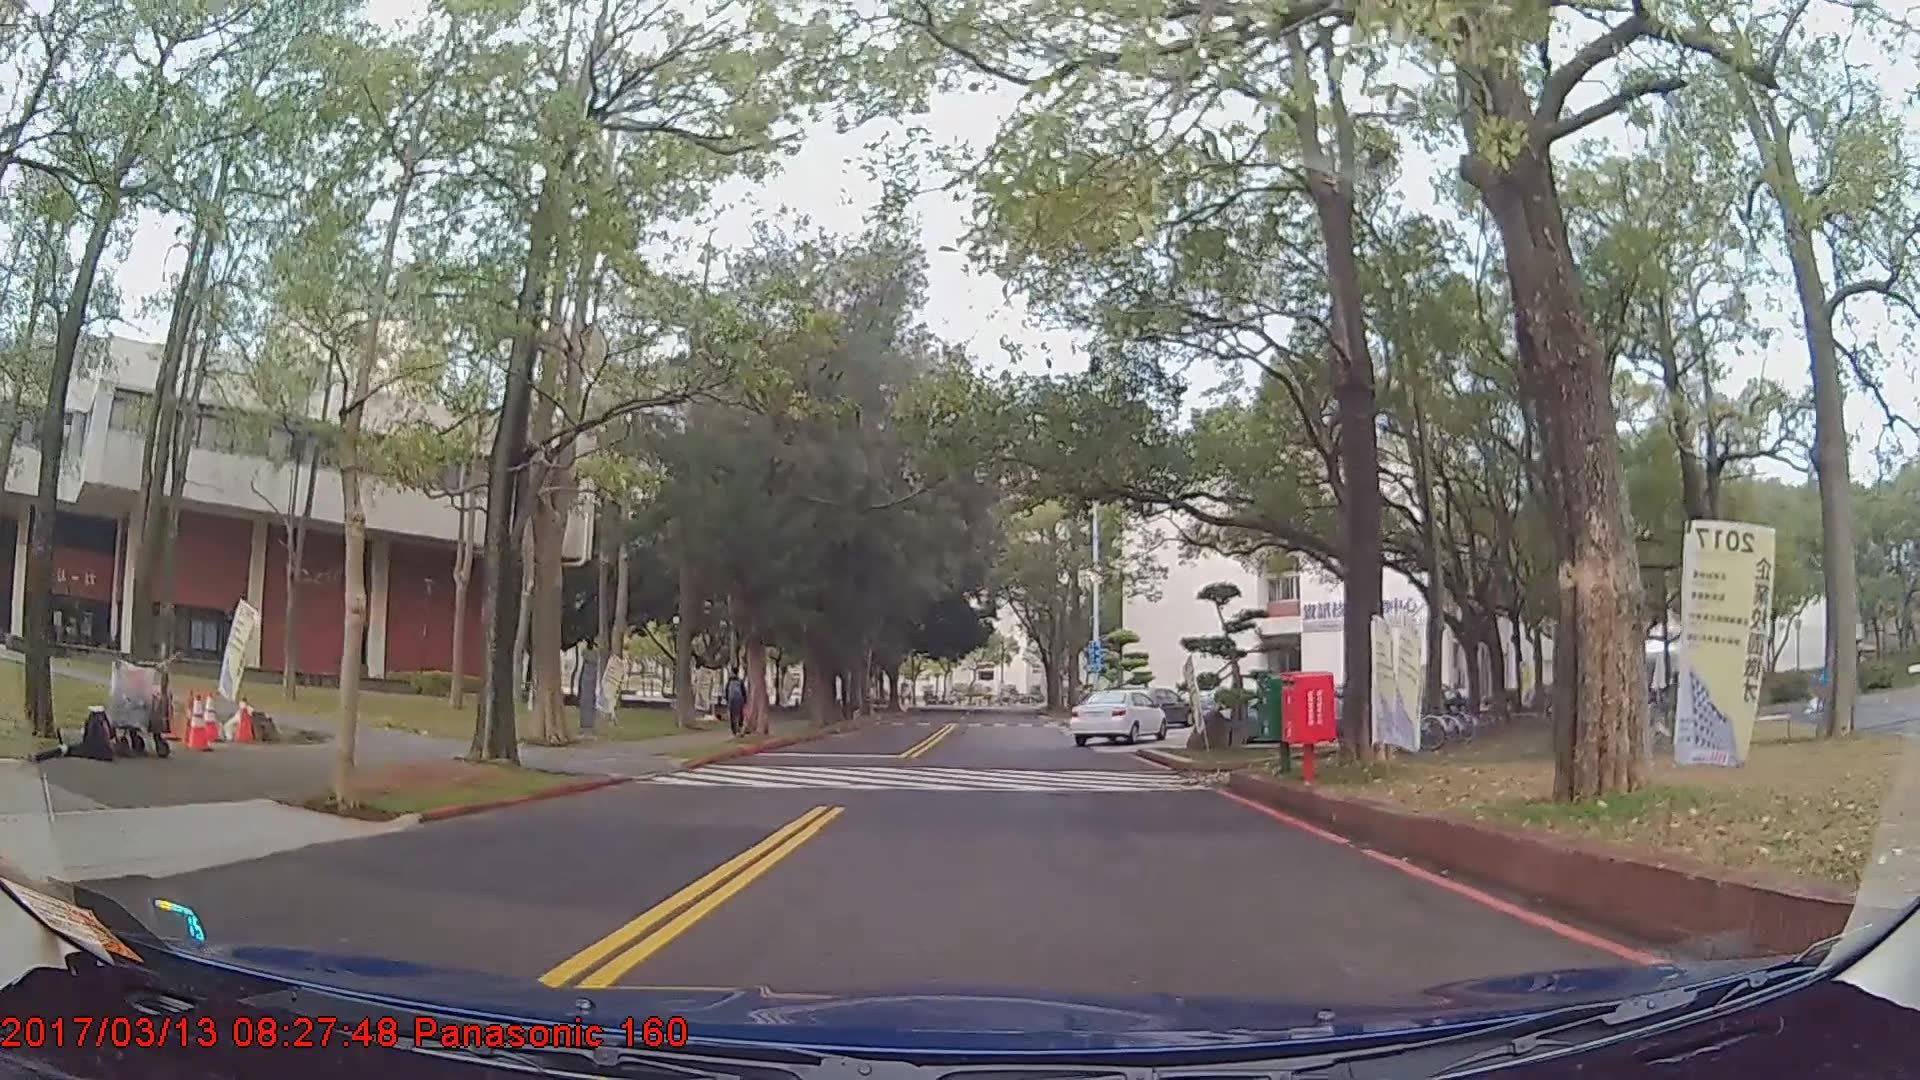pedestrian: (723, 672, 751, 740)
vehicle: (1066, 691, 1166, 749), (1122, 686, 1194, 727)
